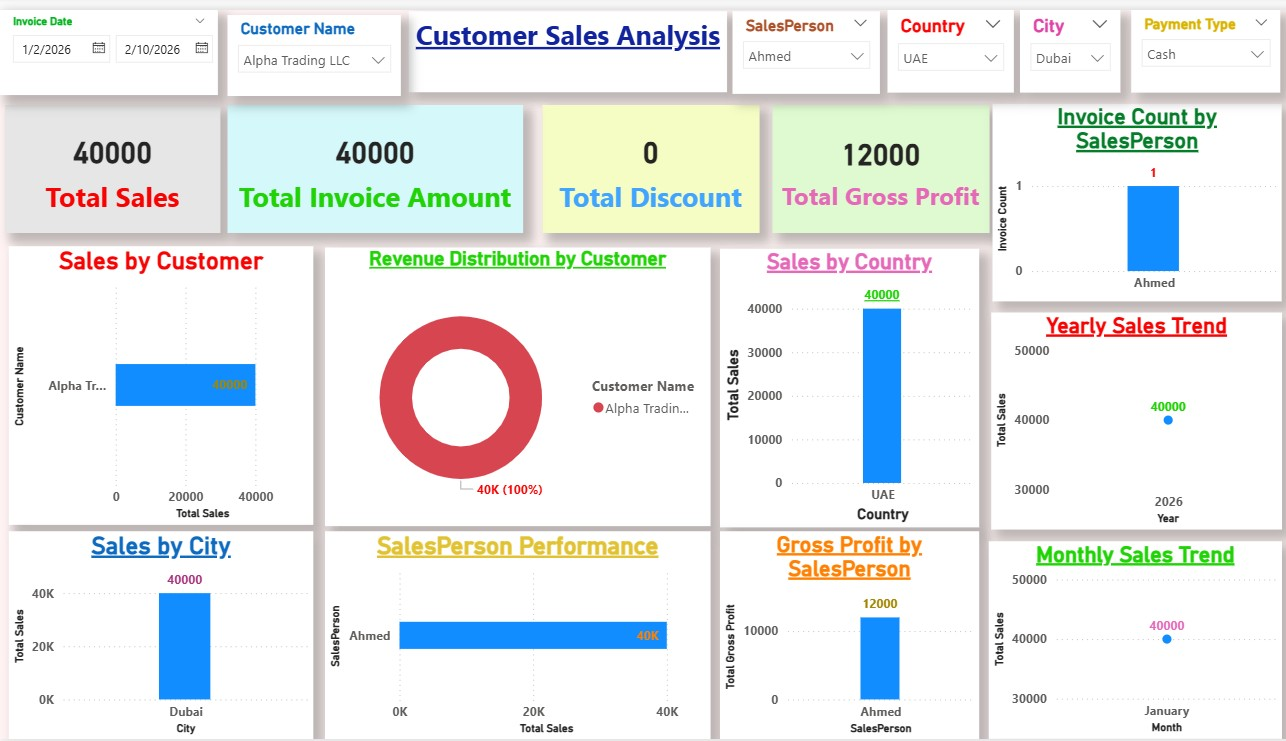

This screenshot's page, from the dashboard's own definition file:
{"tool":"powerbi","page":{"name":"Customer Sales Analysis","canvas":[1280,720],"ordinal":5},"visuals":[{"type":"textbox","box":[403.2,1.5,314.4,79.7],"z":0},{"type":"card","fields":{"Values":["_Measures.Total Discount"]},"box":[535.8,93.9,214.1,126.1],"z":1000},{"type":"card","fields":{"Values":["_Measures.Total Sales"]},"box":[4.4,93.9,212.6,126.1],"z":2000},{"type":"card","fields":{"Values":["_Measures.Total Invoice Amount"]},"box":[224.8,93.9,291.8,126.1],"z":3000},{"type":"card","fields":{"Values":["_Measures.Total Gross Profit"]},"box":[763.1,93.9,214.1,126.1],"z":4000},{"type":"clusteredBarChart","title":"Sales by Customer","fields":{"Category":["tbl_Customers.Customer Name"],"Y":["_Measures.Total Sales"]},"box":[9,233.2,300.9,275.3],"z":5000},{"type":"donutChart","title":"Revenue  Distribution by Customer","fields":{"Category":["tbl_Customers.Customer Name"],"Y":["_Measures.Total Sales"]},"box":[320.5,234.7,380.6,275.3],"z":6000},{"type":"clusteredColumnChart","title":"Sales by Country","fields":{"Category":["tbl_Customers.Country"],"Y":["_Measures.Total Sales"]},"box":[711.6,236.2,255.8,275.3],"z":7000},{"type":"clusteredColumnChart","title":"Sales by City","fields":{"Category":["tbl_Customers.City"],"Y":["_Measures.Total Sales"]},"box":[9,514.5,300.9,206.1],"z":8000},{"type":"clusteredBarChart","title":"SalesPerson Performance","fields":{"Category":["tbl_Customers.SalesPerson"],"Y":["_Measures.Total Sales"]},"box":[320.5,514.5,380.6,206.1],"z":9000},{"type":"clusteredColumnChart","title":"Gross Profit by SalesPerson","fields":{"Category":["tbl_Customers.SalesPerson"],"Y":["_Measures.Total Gross Profit"]},"box":[711.6,514.5,255.8,206.1],"z":10000},{"type":"clusteredColumnChart","title":"Invoice Count by SalesPerson","fields":{"Y":["_Measures.Invoice Count"],"Category":["tbl_Sales.SalesPerson"]},"box":[979.6,92.9,285.9,195.4],"z":11000},{"type":"lineChart","title":"Yearly Sales Trend","fields":{"Category":["tbl_Sales.Invoice Date.Variation.Date Hierarchy.Year"],"Y":["_Measures.Total Sales"]},"box":[978.4,299.2,287.1,214.7],"z":12000},{"type":"lineChart","title":"Monthly Sales Trend","fields":{"Category":["tbl_Sales.Invoice Date.Variation.Date Hierarchy.Month"],"Y":["_Measures.Total Sales"]},"box":[976,524.8,289.5,195.4],"z":13000},{"type":"slicer","fields":{"Values":["tbl_Sales.Invoice Date"]},"box":[0,0,215.1,84.3],"z":14000},{"type":"slicer","fields":{"Values":["tbl_Customers.Customer Name"]},"box":[224.2,4.5,171.5,79.7],"z":15000},{"type":"slicer","fields":{"Values":["tbl_Sales.SalesPerson"]},"box":[723.7,1.5,145.9,81.2],"z":16000},{"type":"slicer","fields":{"Values":["tbl_Customers.Country"]},"box":[877.1,0,124.9,81.2],"z":17000},{"type":"slicer","fields":{"Values":["tbl_Customers.City"]},"box":[1008,0,99.3,81.2],"z":18000},{"type":"slicer","fields":{"Values":["tbl_Sales.Payment Type"]},"box":[1117.8,0,147.4,81.2],"z":19000}]}

Visuals, with their boxes in screenshot pixels (x1, y1, x2, y2), scaled from the page's 1280x720 canvas onto the 1286x741 screenshot:
textbox: bbox(405, 2, 721, 84)
card - _Measures.Total Discount: bbox(538, 97, 753, 226)
card - _Measures.Total Sales: bbox(4, 97, 218, 226)
card - _Measures.Total Invoice Amount: bbox(226, 97, 519, 226)
card - _Measures.Total Gross Profit: bbox(767, 97, 982, 226)
"Sales by Customer" clusteredBarChart: bbox(9, 240, 311, 523)
"Revenue  Distribution by Customer" donutChart: bbox(322, 242, 704, 525)
"Sales by Country" clusteredColumnChart: bbox(715, 243, 972, 526)
"Sales by City" clusteredColumnChart: bbox(9, 530, 311, 740)
"SalesPerson Performance" clusteredBarChart: bbox(322, 530, 704, 740)
"Gross Profit by SalesPerson" clusteredColumnChart: bbox(715, 530, 972, 740)
"Invoice Count by SalesPerson" clusteredColumnChart: bbox(984, 96, 1271, 297)
"Yearly Sales Trend" lineChart: bbox(983, 308, 1271, 529)
"Monthly Sales Trend" lineChart: bbox(981, 540, 1271, 740)
slicer - tbl_Sales.Invoice Date: bbox(0, 0, 216, 87)
slicer - tbl_Customers.Customer Name: bbox(225, 5, 398, 87)
slicer - tbl_Sales.SalesPerson: bbox(727, 2, 874, 85)
slicer - tbl_Customers.Country: bbox(881, 0, 1007, 84)
slicer - tbl_Customers.City: bbox(1013, 0, 1112, 84)
slicer - tbl_Sales.Payment Type: bbox(1123, 0, 1271, 84)
